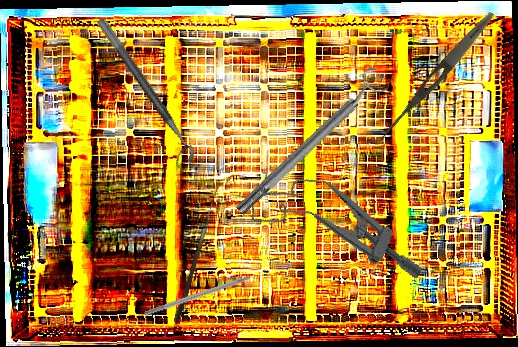Dressing Forceps: (376, 8, 498, 145)
Fixation Ring: (227, 64, 393, 222), (84, 16, 201, 172)
Hook Surgical: (143, 267, 272, 318), (173, 185, 218, 325)
Speculum: (242, 156, 439, 292)
